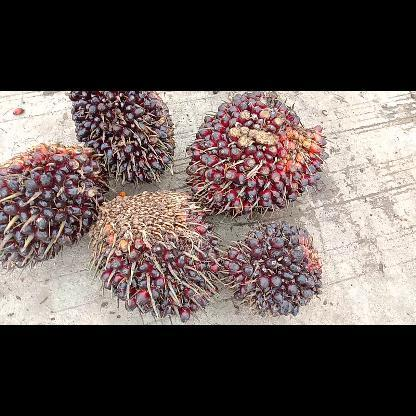TBS mentah: (185, 91, 329, 217), (89, 190, 222, 324), (0, 142, 109, 270), (68, 90, 174, 184), (221, 224, 321, 316)
